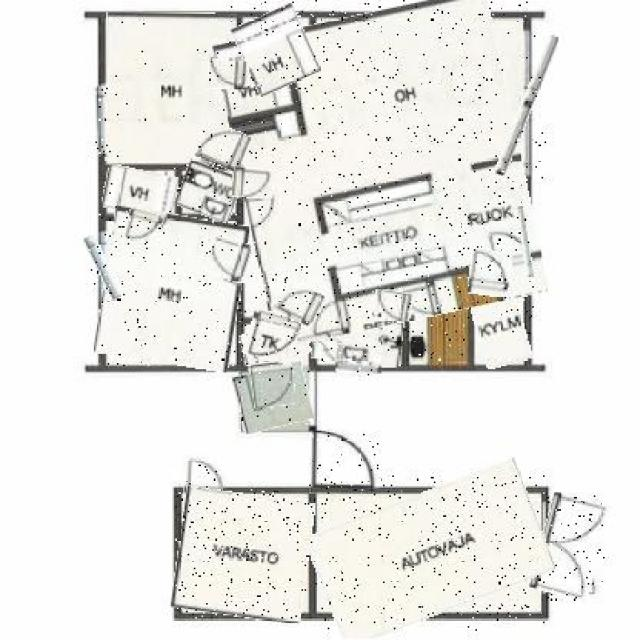door: (536, 495, 604, 600), (310, 432, 378, 494), (246, 311, 297, 363), (198, 125, 251, 169), (251, 360, 295, 408), (470, 249, 512, 297), (208, 237, 252, 281), (276, 283, 322, 323), (125, 209, 162, 245), (185, 460, 223, 495), (234, 166, 274, 199), (372, 290, 412, 322), (208, 60, 249, 89)
window: (508, 33, 546, 178), (89, 234, 117, 301), (95, 86, 108, 157), (520, 206, 532, 277), (336, 360, 382, 375)
zone: (226, 0, 534, 334), (311, 475, 549, 631), (98, 210, 244, 368), (106, 14, 237, 161), (175, 491, 312, 620), (314, 283, 404, 366), (237, 9, 315, 92), (235, 366, 312, 431), (472, 286, 528, 366), (409, 289, 468, 363), (103, 168, 177, 217), (177, 163, 240, 220), (242, 322, 309, 366)
